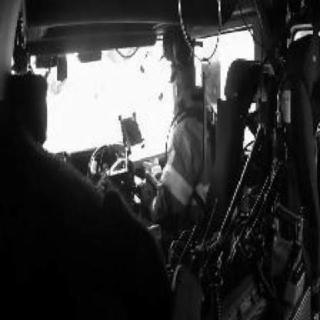other: (268, 192, 306, 304), (132, 173, 176, 230)
